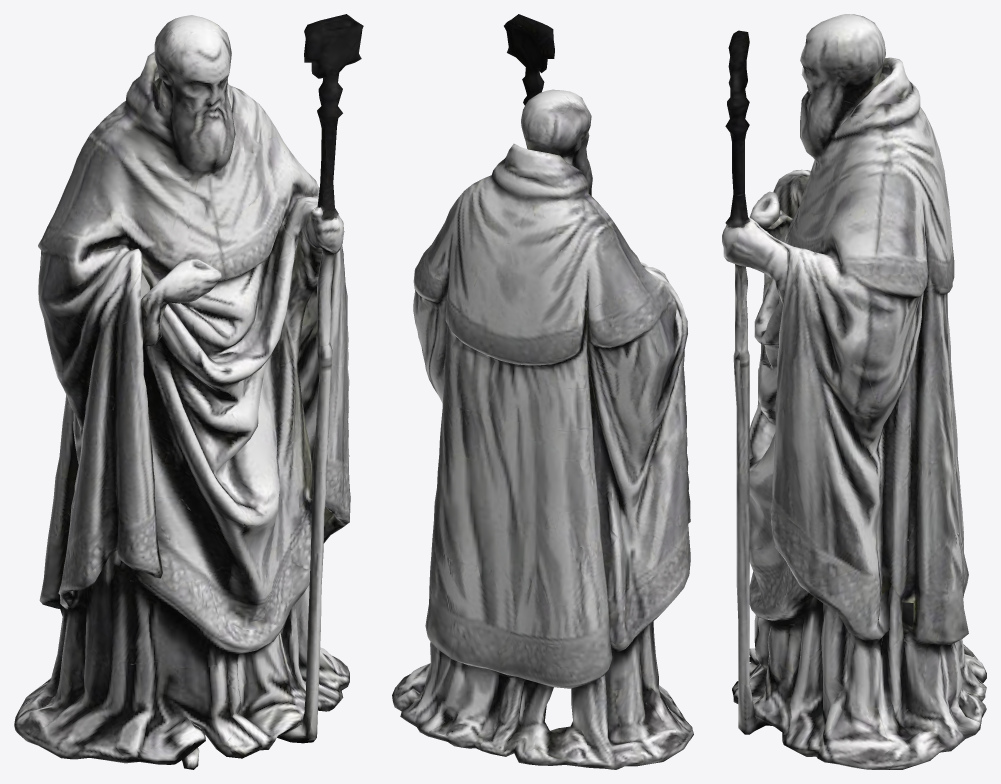
Rendered from Clergy_Abbot2.glb.
3 views of the same model, side by side, from view 1: azimuth 30°, elevation 25°; view 2: azimuth 150°, elevation 25°; view 3: azimuth 270°, elevation 25° (orthographic). The views are drawn at different scales.
Size of the model in its own units: 0.8571 by 1.88 by 0.638.
Materials: 1 (1 with a texture image).
